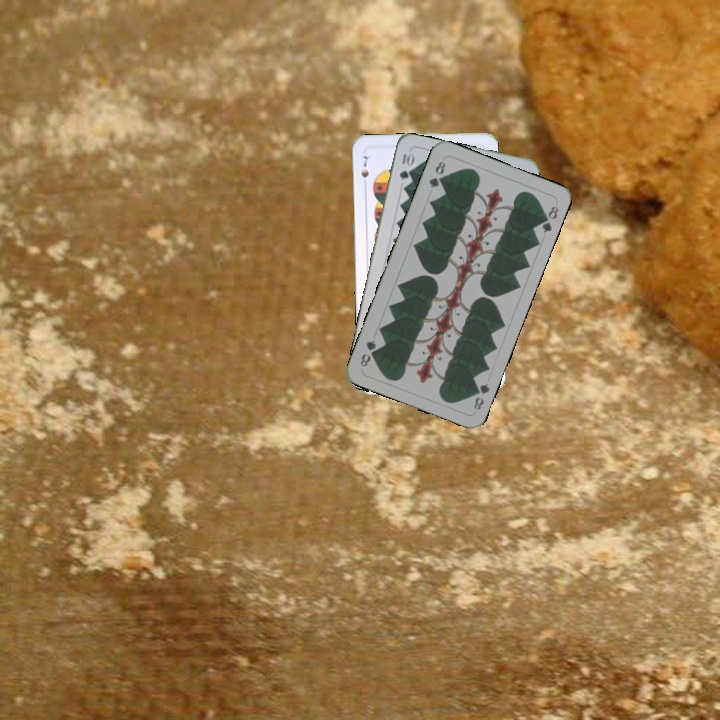G10: (395, 148, 415, 182)
G8: (425, 157, 448, 191), (469, 379, 492, 413)
S7: (357, 151, 371, 190)
